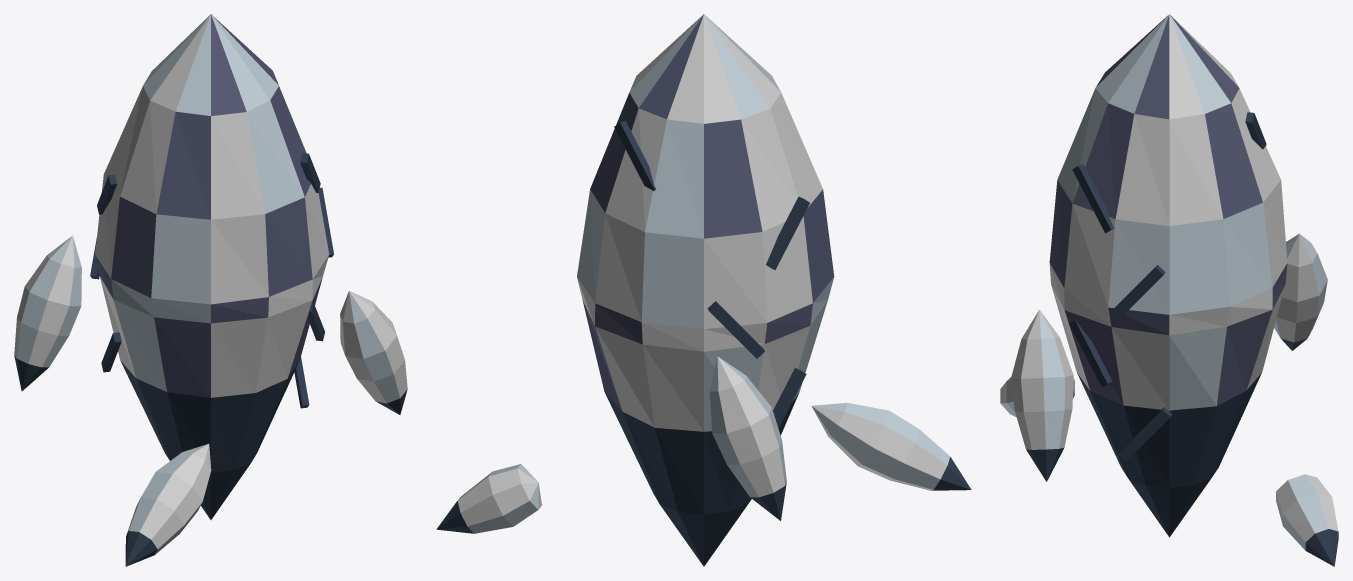
Rendered from TravelBeaconCrystalDormant.obj.
The picture shows the model from 3 angles, left to right: view 1: azimuth 30°, elevation 25°; view 2: azimuth 150°, elevation 25°; view 3: azimuth 270°, elevation 25°; orthographic projection. The views are drawn at different scales.
Bounding box in the file's own units: 1.64 × 2.4 × 1.4.
